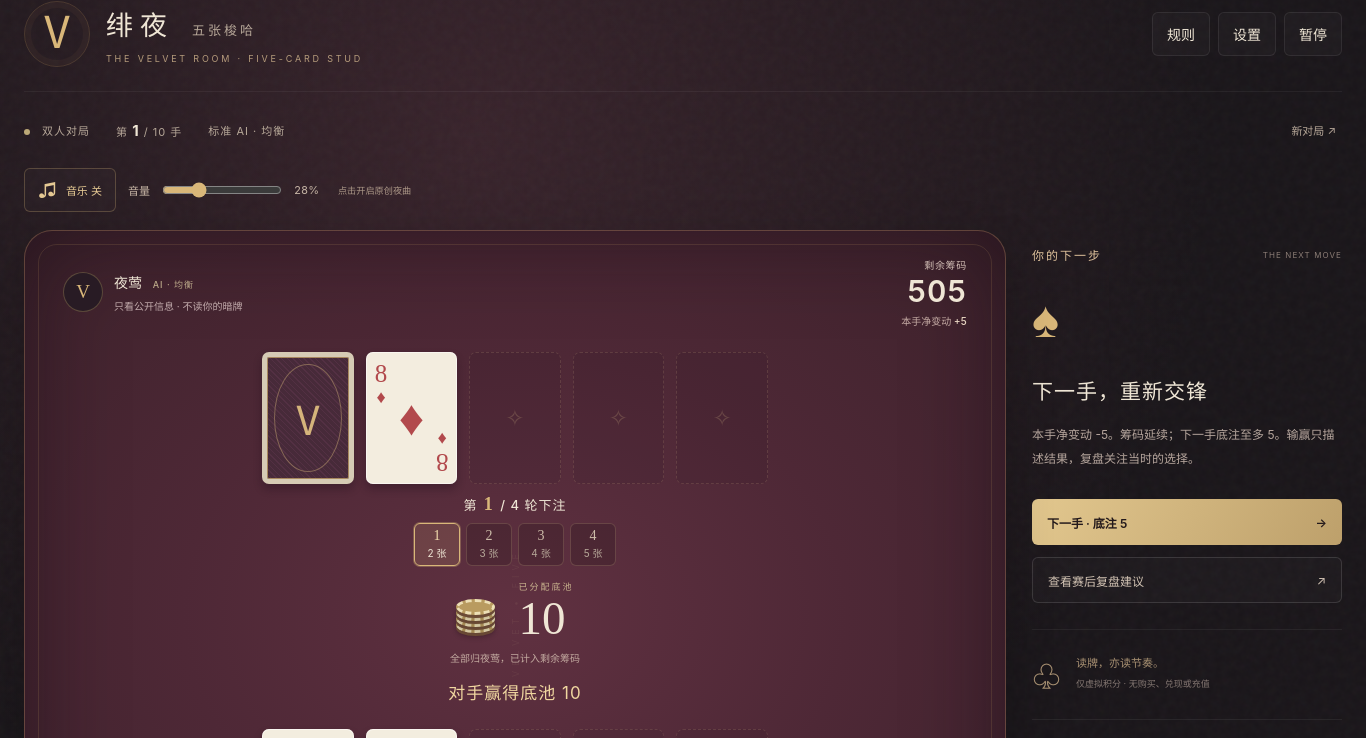
Test: clear stakes and retrospective advice › retains old settled reviews without inventing missing candidates or snapshots
Click the button "查看赛后复盘建议 ↗" at (1108, 581), box [1032,557,1342,603]
(page scrolled)
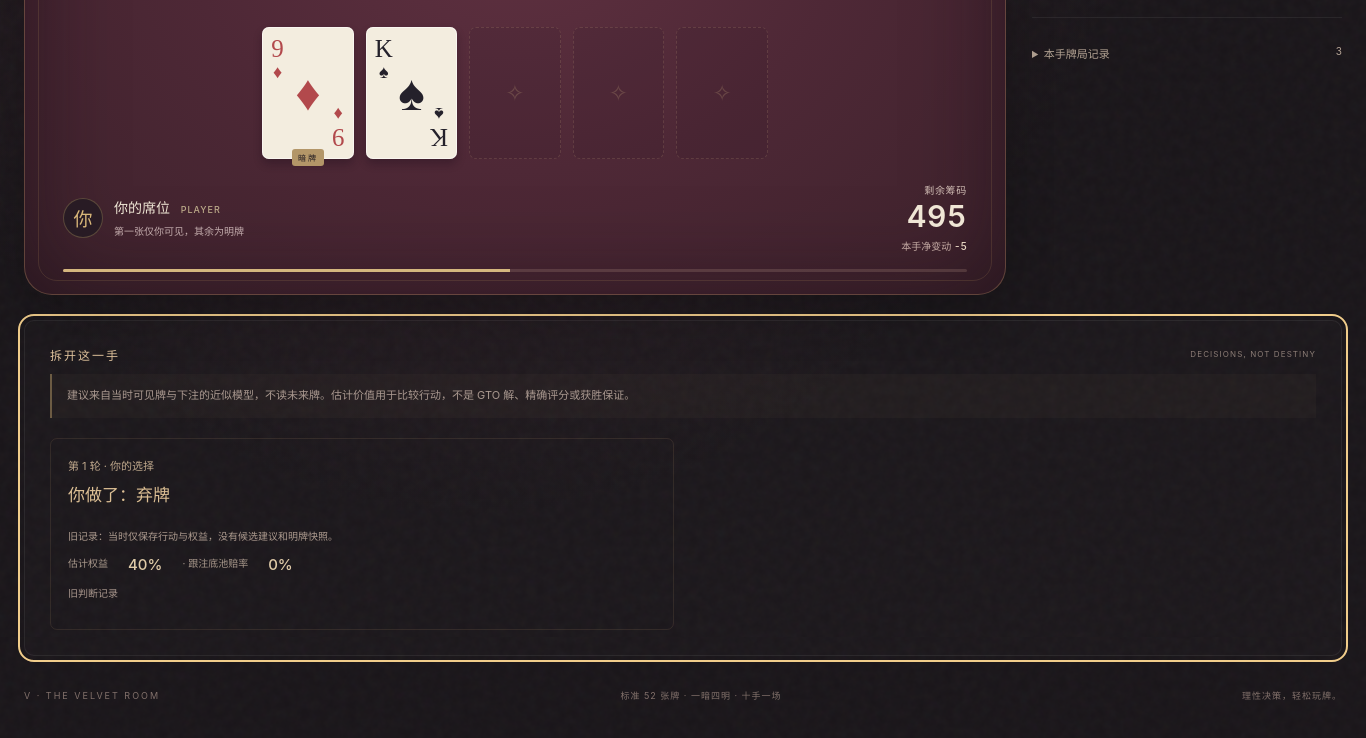
Result: the text "旧记录：当时仅保存行动与权益，没有候选建议和明牌快照。" is shown at [68,530,338,542]
Result: the text "旧判断记录" is shown at [68,587,118,599]
